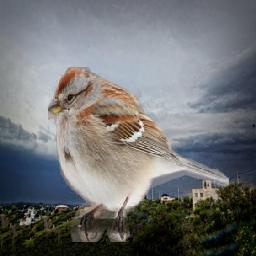Sparrow: (49, 68, 230, 243)
